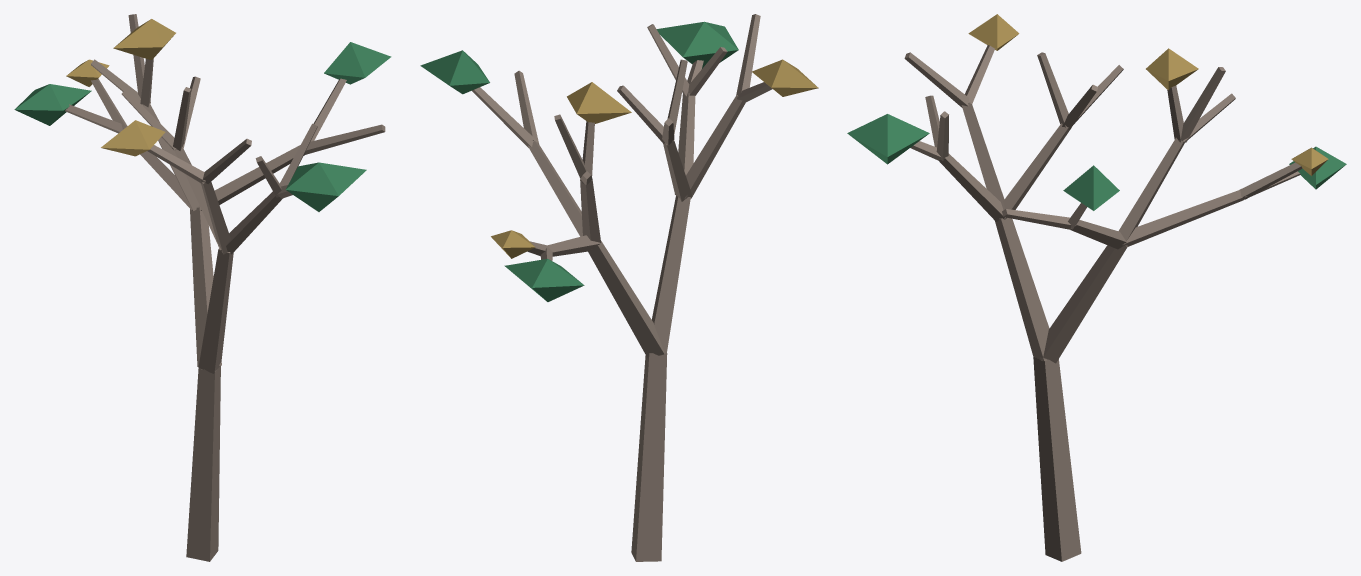
File: bush_thorn_b.glb
3 views of the same model, side by side, from view 1: azimuth 30°, elevation 25°; view 2: azimuth 150°, elevation 25°; view 3: azimuth 270°, elevation 25° (orthographic). The views are drawn at different scales.
Visible parts, largest first — view 1: BushThornB; view 2: BushThornB; view 3: BushThornB.
Part boxes in pixels (bbox=[...]): BushThornB: bbox=[14, 14, 391, 561]; BushThornB: bbox=[420, 14, 818, 561]; BushThornB: bbox=[847, 14, 1346, 561].
Bounding box in the file's own units: 0.5882 × 0.8277 × 0.7384.
